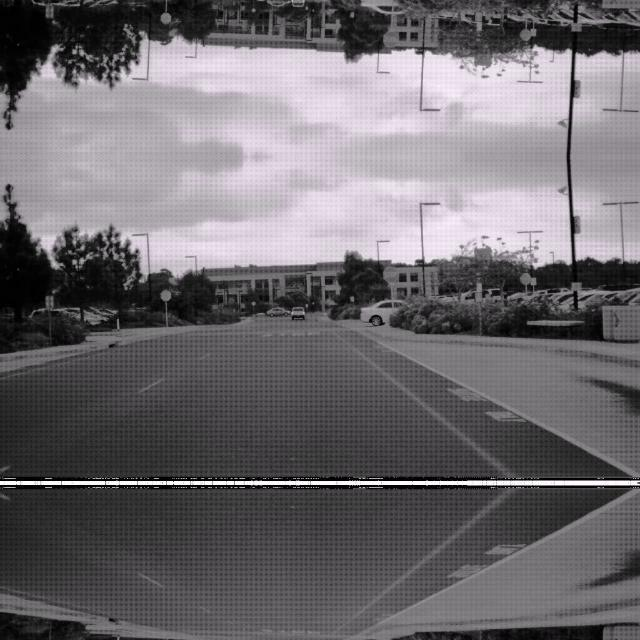stop: (382, 264, 398, 282), (382, 30, 398, 48)
